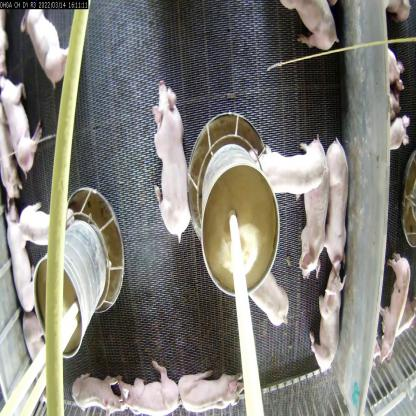Pig: (0, 64, 53, 195), (18, 7, 71, 108), (262, 131, 333, 205), (312, 266, 352, 388), (303, 152, 337, 294), (324, 145, 355, 286), (274, 0, 343, 62), (116, 356, 186, 416), (378, 240, 411, 367), (176, 368, 244, 415), (77, 359, 131, 415), (23, 197, 70, 260), (0, 204, 27, 312), (0, 108, 21, 212)
